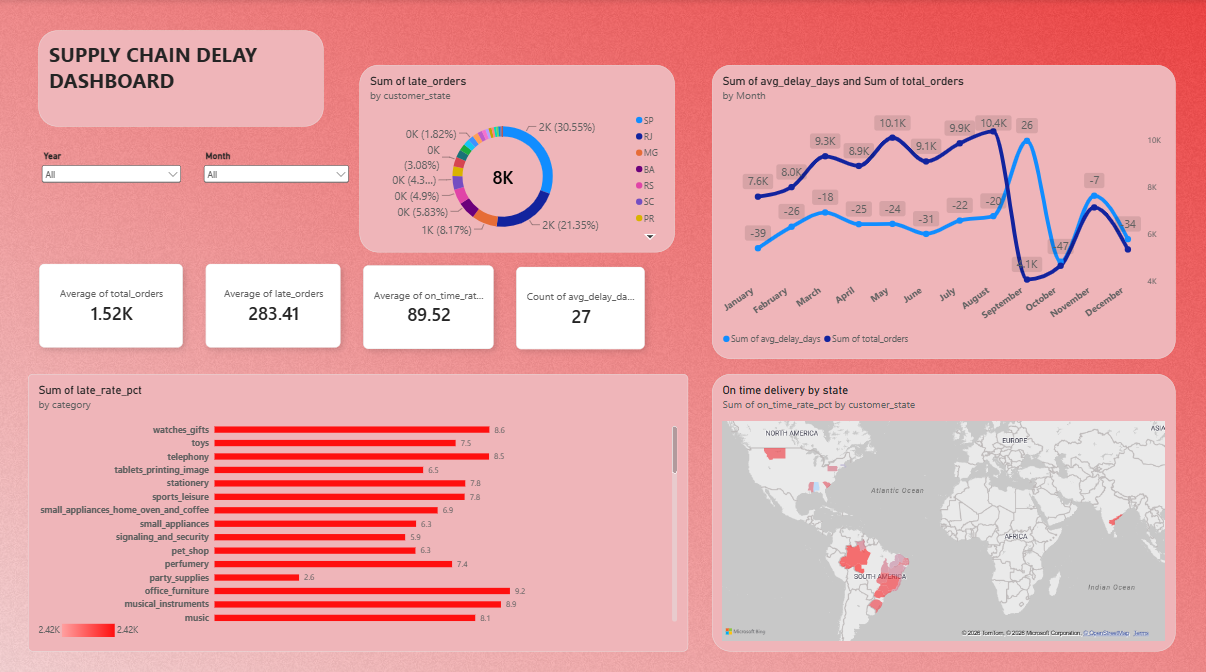

Layout of this report page (visuals, bound fields, positions):
{"tool":"powerbi","page":{"name":"Page 1","canvas":[1920,1080],"ordinal":0},"visuals":[{"type":"lineChart","fields":{"Category":["monthly_trend.month.Variation.Date Hierarchy.Month"],"Y":["Sum(monthly_trend.avg_delay_days)"],"Y2":["Sum(monthly_trend.total_orders)"]},"box":[1136.6,104.7,737.2,467.6],"z":0},{"type":"filledMap","title":"On time delivery by state","fields":{"Category":["by_state.customer_state"]},"box":[1135.7,596.5,737.2,441.4],"z":1000},{"type":"clusteredBarChart","fields":{"Category":["by_category.category"],"Y":["Sum(by_category.late_rate_pct)"]},"box":[47.7,596.5,1049.8,441.4],"z":1001},{"type":"slicer","fields":{"Values":["monthly_trend.month.Variation.Date Hierarchy.Month"]},"box":[322.1,241,241,85.9],"z":1002},{"type":"slicer","fields":{"Values":["monthly_trend.month.Variation.Date Hierarchy.Year"]},"box":[64.4,241,231.4,69.2],"z":1003},{"type":"cardVisual","fields":{"Data":["Avg(by_category.total_orders)"]},"box":[47.7,403.2,264.8,169.4],"z":1004},{"type":"cardVisual","fields":{"Data":["Avg(by_state.late_orders)"]},"box":[312.6,403.2,250.5,169.4],"z":1005},{"type":"cardVisual","fields":{"Data":["Avg(by_state.on_time_rate_pct)"]},"box":[563.1,405.6,243.4,169.4],"z":1006},{"type":"cardVisual","fields":{"Data":["CountNonNull(by_state.avg_delay_days)"]},"box":[806.4,408,241,167],"z":1007},{"type":"donutChart","fields":{"Category":["by_state.customer_state"],"Y":["Sum(by_state.late_orders)"]},"box":[575,105,501,298.2],"z":1008},{"type":"textbox","box":[64.4,50.1,453.3,152.7],"z":1009}]}

Visuals, with their boxes in screenshot pixels (x1, y1, x2, y2), scaled from the page's 1920x1080 canvas onto the 1206x672 screenshot:
lineChart - monthly_trend.month.Variation.Date Hierarchy.Month x Sum(monthly_trend.avg_delay_days): Rect(714, 65, 1177, 356)
"On time delivery by state" filledMap: Rect(713, 371, 1176, 646)
clusteredBarChart - by_category.category x Sum(by_category.late_rate_pct): Rect(30, 371, 689, 646)
slicer - monthly_trend.month.Variation.Date Hierarchy.Month: Rect(202, 150, 354, 203)
slicer - monthly_trend.month.Variation.Date Hierarchy.Year: Rect(40, 150, 186, 193)
cardVisual - Avg(by_category.total_orders): Rect(30, 251, 196, 356)
cardVisual - Avg(by_state.late_orders): Rect(196, 251, 354, 356)
cardVisual - Avg(by_state.on_time_rate_pct): Rect(354, 252, 507, 358)
cardVisual - CountNonNull(by_state.avg_delay_days): Rect(507, 254, 658, 358)
donutChart - by_state.customer_state x Sum(by_state.late_orders): Rect(361, 65, 676, 251)
textbox: Rect(40, 31, 325, 126)
